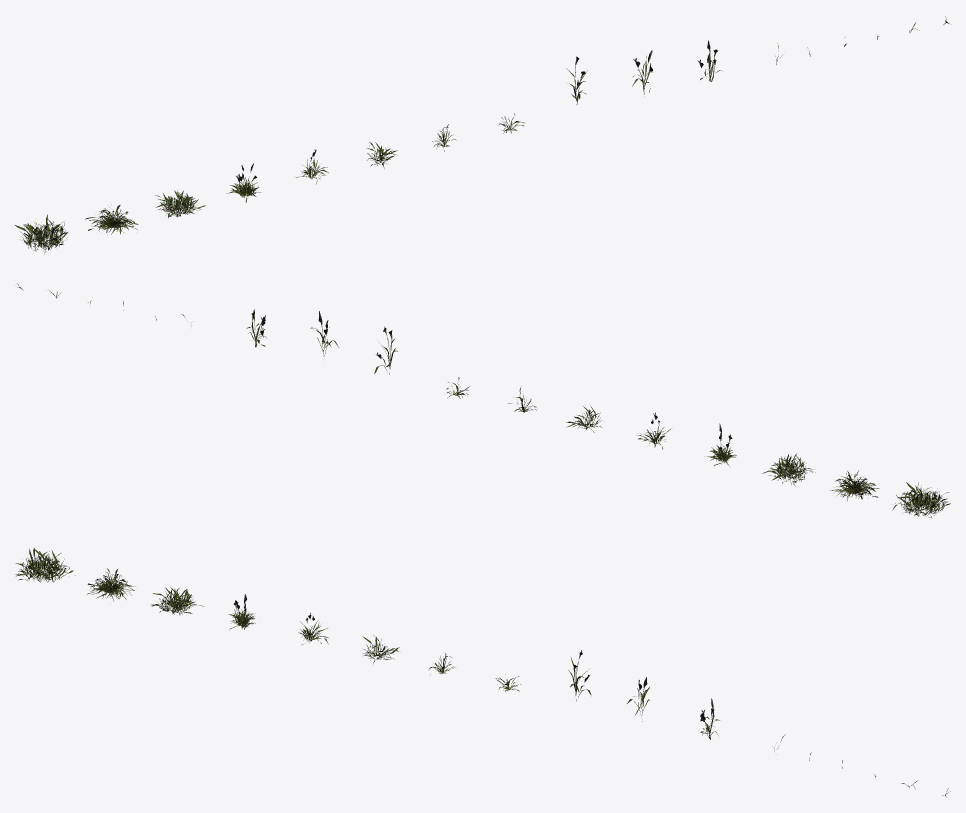
Rendered from grass_medium_01.glb.
The picture shows the model from 3 angles, top to bottom: view 1: azimuth 30°, elevation 25°; view 2: azimuth 150°, elevation 25°; view 3: azimuth 330°, elevation 25°; orthographic projection.
Visible parts, largest first — view 1: grass_medium_01_small_a_LOD0; view 2: grass_medium_01_small_a_LOD0; view 3: grass_medium_01_small_a_LOD0.
Boxes of the visible parts, x1,y1,x2,y2 form: grass_medium_01_small_a_LOD0: [15, 16, 949, 253]; grass_medium_01_small_a_LOD0: [17, 283, 950, 517]; grass_medium_01_small_a_LOD0: [15, 548, 950, 797].
Bounding box in the file's own units: 5.6 × 0.3382 × 0.3266.
1 material, 1 textured.
